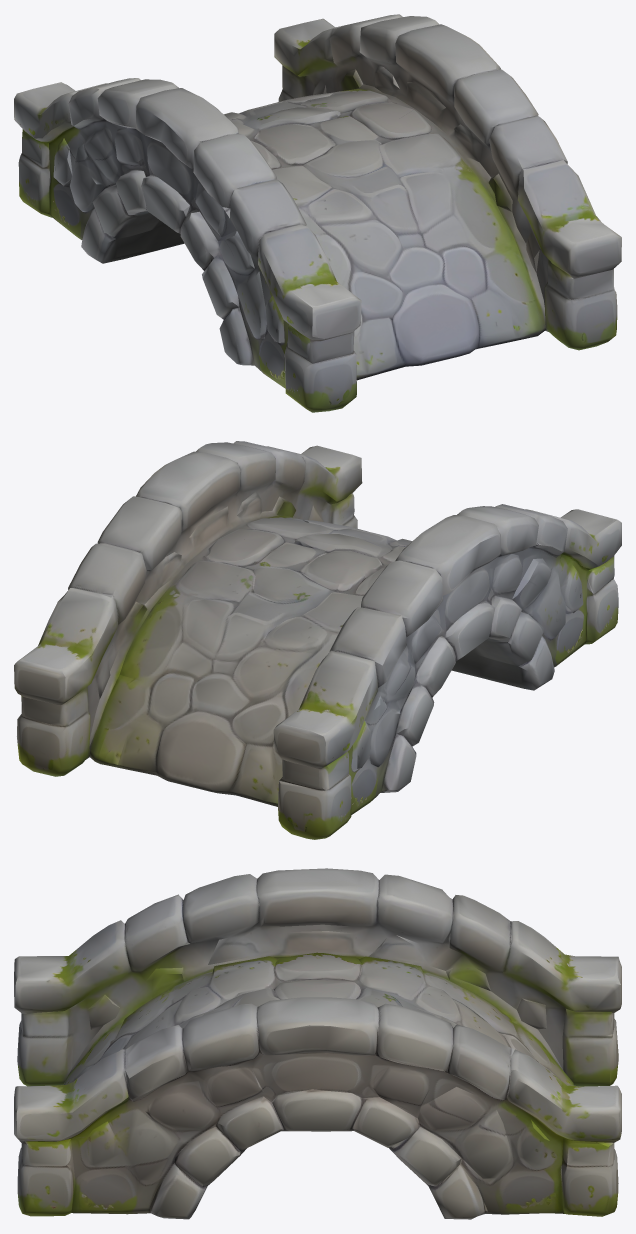
File: stone_bridge.glb
3 renders of one model, top to bottom at view 1: azimuth 30°, elevation 25°; view 2: azimuth 150°, elevation 25°; view 3: azimuth 270°, elevation 25°, orthographic.
Parts seen in each view (by area): view 1: stone_bridge; view 2: stone_bridge; view 3: stone_bridge.
Boxes of the visible parts, x1=… form: stone_bridge: x1=14, y1=14, x2=621, y2=412; stone_bridge: x1=14, y1=441, x2=621, y2=839; stone_bridge: x1=14, y1=868, x2=621, y2=1219.
Size of the model in its own units: 4.9 by 2.95 by 8.
1 material, 1 textured.
